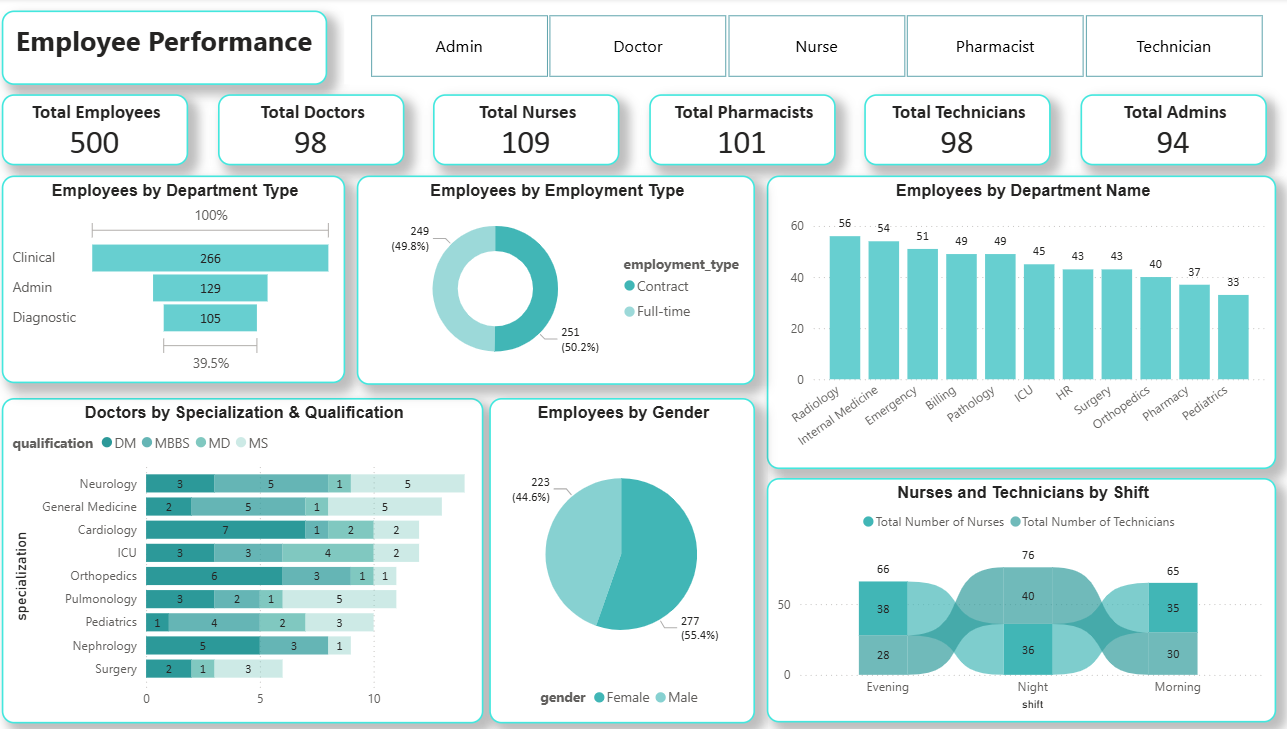

The page's visual inventory and layout, read from the dashboard file:
{"tool":"powerbi","page":{"name":"Employees","canvas":[1280,720],"ordinal":2},"visuals":[{"type":"textbox","box":[9.1,11.7,318.2,72.7],"z":0},{"type":"card","title":"Total Employees","fields":{"Values":["Employees.Total Number of Employees"]},"box":[8.6,94.2,182.2,69.7],"z":1000},{"type":"card","title":"Total Doctors","fields":{"Values":["Employees.Total Number of Doctors"]},"box":[220.1,94.2,182.2,69.7],"z":2000},{"type":"card","title":"Total Nurses","fields":{"Values":["Employees.Total Number of Nurses"]},"box":[430.4,94.2,182.2,69.7],"z":3000},{"type":"card","title":"Total Pharmacists","fields":{"Values":["Employees.Total Number of Pharmacists"]},"box":[642,94.2,182.2,69.7],"z":4000},{"type":"card","title":"Total Technicians","fields":{"Values":["Employees.Total Number of Technicians"]},"box":[852.3,94.2,182.2,69.7],"z":5000},{"type":"card","title":"Total Admins","fields":{"Values":["Employees.Total Number of Admins"]},"box":[1063.9,94.2,182.2,69.7],"z":6000},{"type":"columnChart","title":"Employees by Department Name","fields":{"Category":["Employees.department_name"],"Y":["Employees.Total Number of Employees"]},"box":[757,173.5,498.7,286.9],"z":7000},{"type":"barChart","title":"Doctors by Specialization & Qualification","fields":{"Category":["Employees.specialization"],"Y":["Employees.Total Number of Doctors"],"Series":["Employees.qualification"]},"box":[8.2,390.8,471.4,318.4],"z":8000},{"type":"funnel","title":"Employees by Department Type","fields":{"Category":["Employees.department_type"],"Y":["Employees.Total Number of Employees"]},"box":[8.2,173.5,336.1,203.6],"z":9000},{"type":"donutChart","title":"Employees by Employment Type","fields":{"Category":["Employees.employment_type"],"Y":["Employees.Total Number of Employees"]},"box":[355.3,173.5,389.4,205],"z":10000},{"type":"pieChart","title":"Employees by Gender","fields":{"Category":["Employees.gender"],"Y":["Employees.Total Number of Employees"]},"box":[485.1,390.8,259.6,318.4],"z":11000},{"type":"ribbonChart","title":"Nurses and Technicians by Shift","fields":{"Category":["Staff Assignments.shift"],"Y":["Employees.Total Number of Nurses","Employees.Total Number of Technicians"]},"box":[757.1,470.1,498.7,239],"z":12000},{"type":"slicer","fields":{"Values":["Employees.role"]},"box":[344.2,10.4,922.1,74],"z":13000}]}

Visuals, with their boxes in screenshot pixels (x1, y1, x2, y2), scaled from the page's 1280x720 canvas onto the 1287x729 screenshot:
textbox: box=[9, 12, 329, 85]
"Total Employees" card: box=[9, 95, 192, 166]
"Total Doctors" card: box=[221, 95, 405, 166]
"Total Nurses" card: box=[433, 95, 616, 166]
"Total Pharmacists" card: box=[646, 95, 829, 166]
"Total Technicians" card: box=[857, 95, 1040, 166]
"Total Admins" card: box=[1070, 95, 1253, 166]
"Employees by Department Name" columnChart: box=[761, 176, 1263, 466]
"Doctors by Specialization & Qualification" barChart: box=[8, 396, 482, 718]
"Employees by Department Type" funnel: box=[8, 176, 346, 382]
"Employees by Employment Type" donutChart: box=[357, 176, 749, 383]
"Employees by Gender" pieChart: box=[488, 396, 749, 718]
"Nurses and Technicians by Shift" ribbonChart: box=[761, 476, 1263, 718]
slicer - Employees.role: box=[346, 11, 1273, 85]
